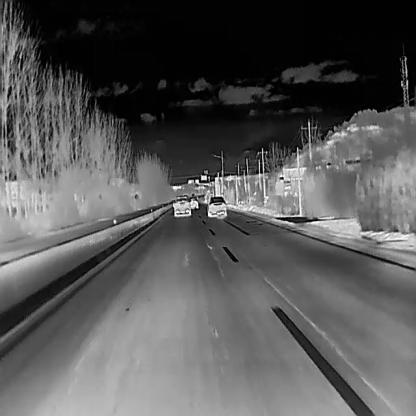car: (207, 195, 227, 218), (172, 194, 190, 216), (189, 199, 198, 209)
